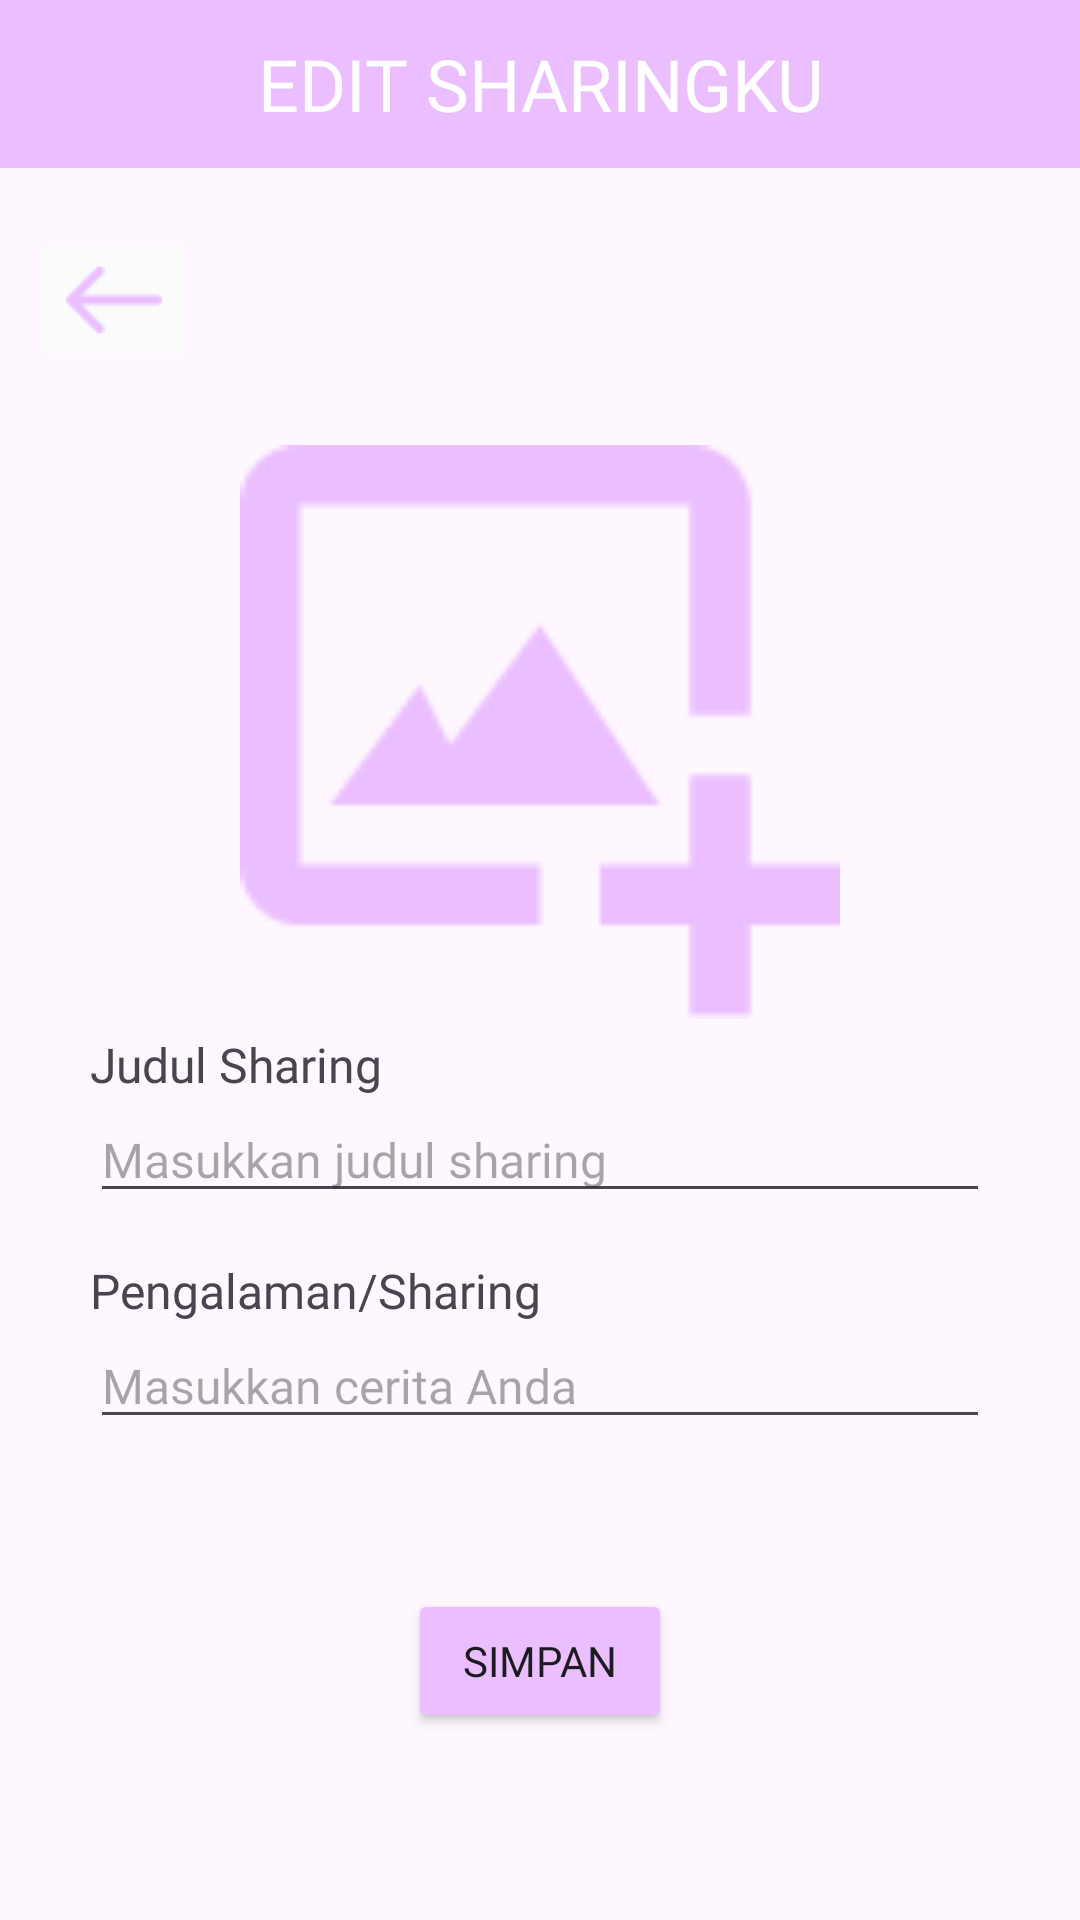

Icons on this 1080 x 1920 Android screen, each with its box as region(x1, y1, x2, y2):
Back: region(66, 267, 162, 333)
